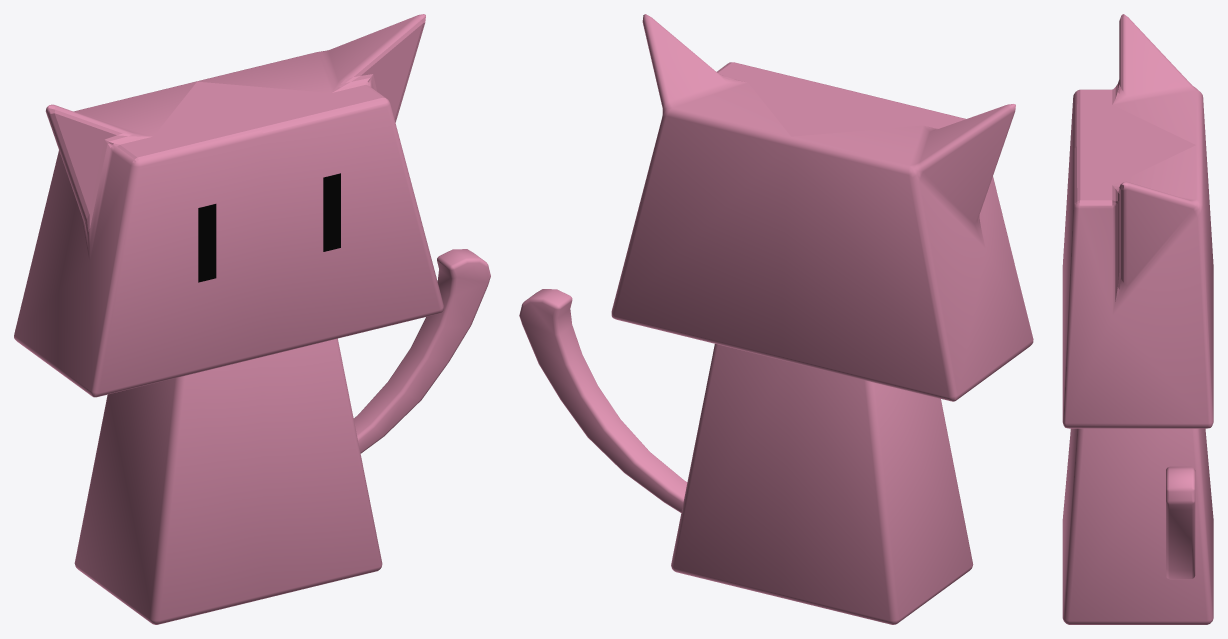
Rendered from cat_01.fbx.
3 views of the same model, side by side, from view 1: azimuth 30°, elevation 25°; view 2: azimuth 150°, elevation 25°; view 3: azimuth 270°, elevation 25° (orthographic). The views are drawn at different scales.
Visible parts, largest first — view 1: obj_cathead.000, obj_catBody.000, obj_catTail.000, obj_catEye.000; view 2: obj_cathead.000, obj_catBody.000, obj_catTail.000; view 3: obj_cathead.000, obj_catBody.000, obj_catTail.000.
Part boxes in pixels (bbox=[...]): obj_cathead.000: bbox=[14, 14, 443, 397]; obj_catBody.000: bbox=[74, 338, 382, 624]; obj_catTail.000: bbox=[353, 249, 490, 453]; obj_catEye.000: bbox=[198, 173, 340, 282]; obj_cathead.000: bbox=[611, 14, 1033, 401]; obj_catBody.000: bbox=[671, 344, 973, 624]; obj_catTail.000: bbox=[519, 289, 687, 512]; obj_cathead.000: bbox=[1062, 14, 1213, 428]; obj_catBody.000: bbox=[1062, 428, 1213, 624]; obj_catTail.000: bbox=[1166, 466, 1195, 579].
Bounding box in the file's own units: 263 × 277 × 79.82.
